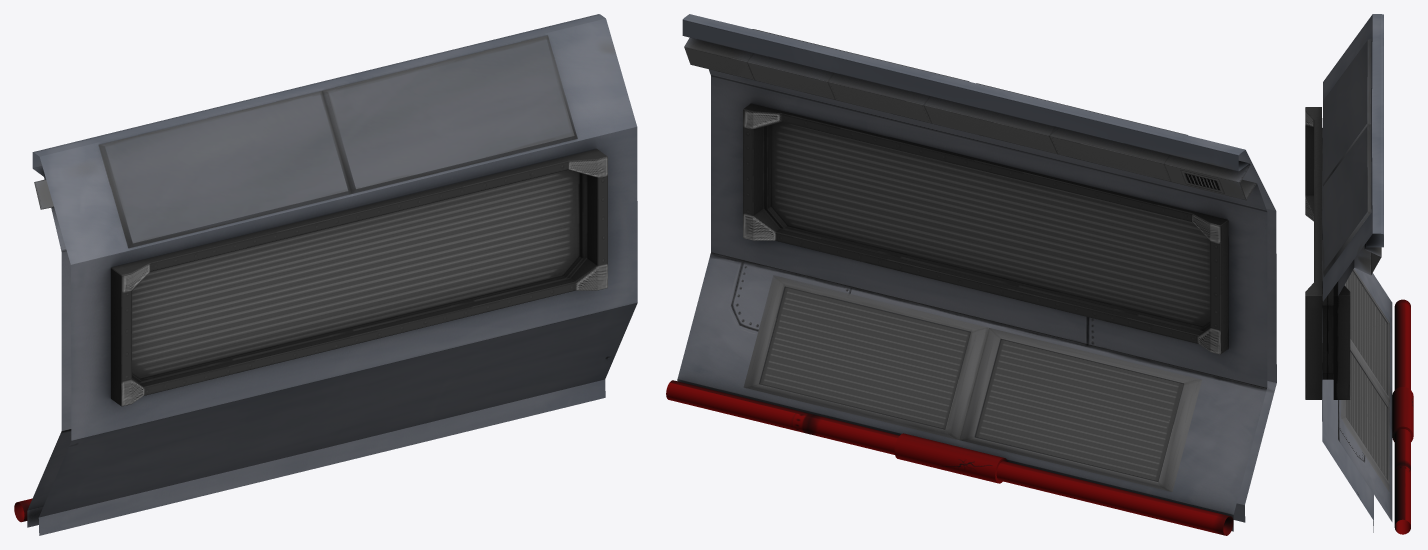
File: space_ship_w_window_closed.glb
3 views of the same model, side by side, from view 1: azimuth 30°, elevation 25°; view 2: azimuth 150°, elevation 25°; view 3: azimuth 270°, elevation 25° (orthographic). The views are drawn at different scales.
Visible parts, largest first — view 1: wall, sheet_front, window_rim_back; view 2: wall, sheet_back, window_rim_front, tube; view 3: wall, window_rim_back, tube, window_rim_front.
Boxes of the visible parts, <box> form: wall: <box>27,14,637,535</box>; sheet_front: <box>132,170,579,378</box>; window_rim_back: <box>111,149,607,406</box>; wall: <box>677,14,1276,531</box>; sheet_back: <box>771,122,1210,326</box>; window_rim_front: <box>743,103,1228,354</box>; tube: <box>666,380,1233,535</box>; wall: <box>1322,14,1392,532</box>; window_rim_back: <box>1305,107,1327,399</box>; tube: <box>1392,299,1413,534</box>; window_rim_front: <box>1328,282,1350,399</box>.
Size of the model in its own units: 12.79 by 8.21 by 2.66.
1 material, 1 textured.
